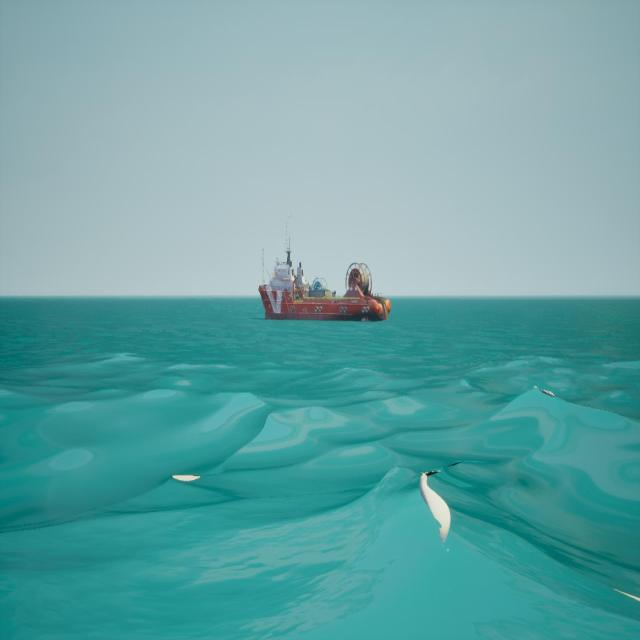tug boat: (257, 216, 391, 324)
